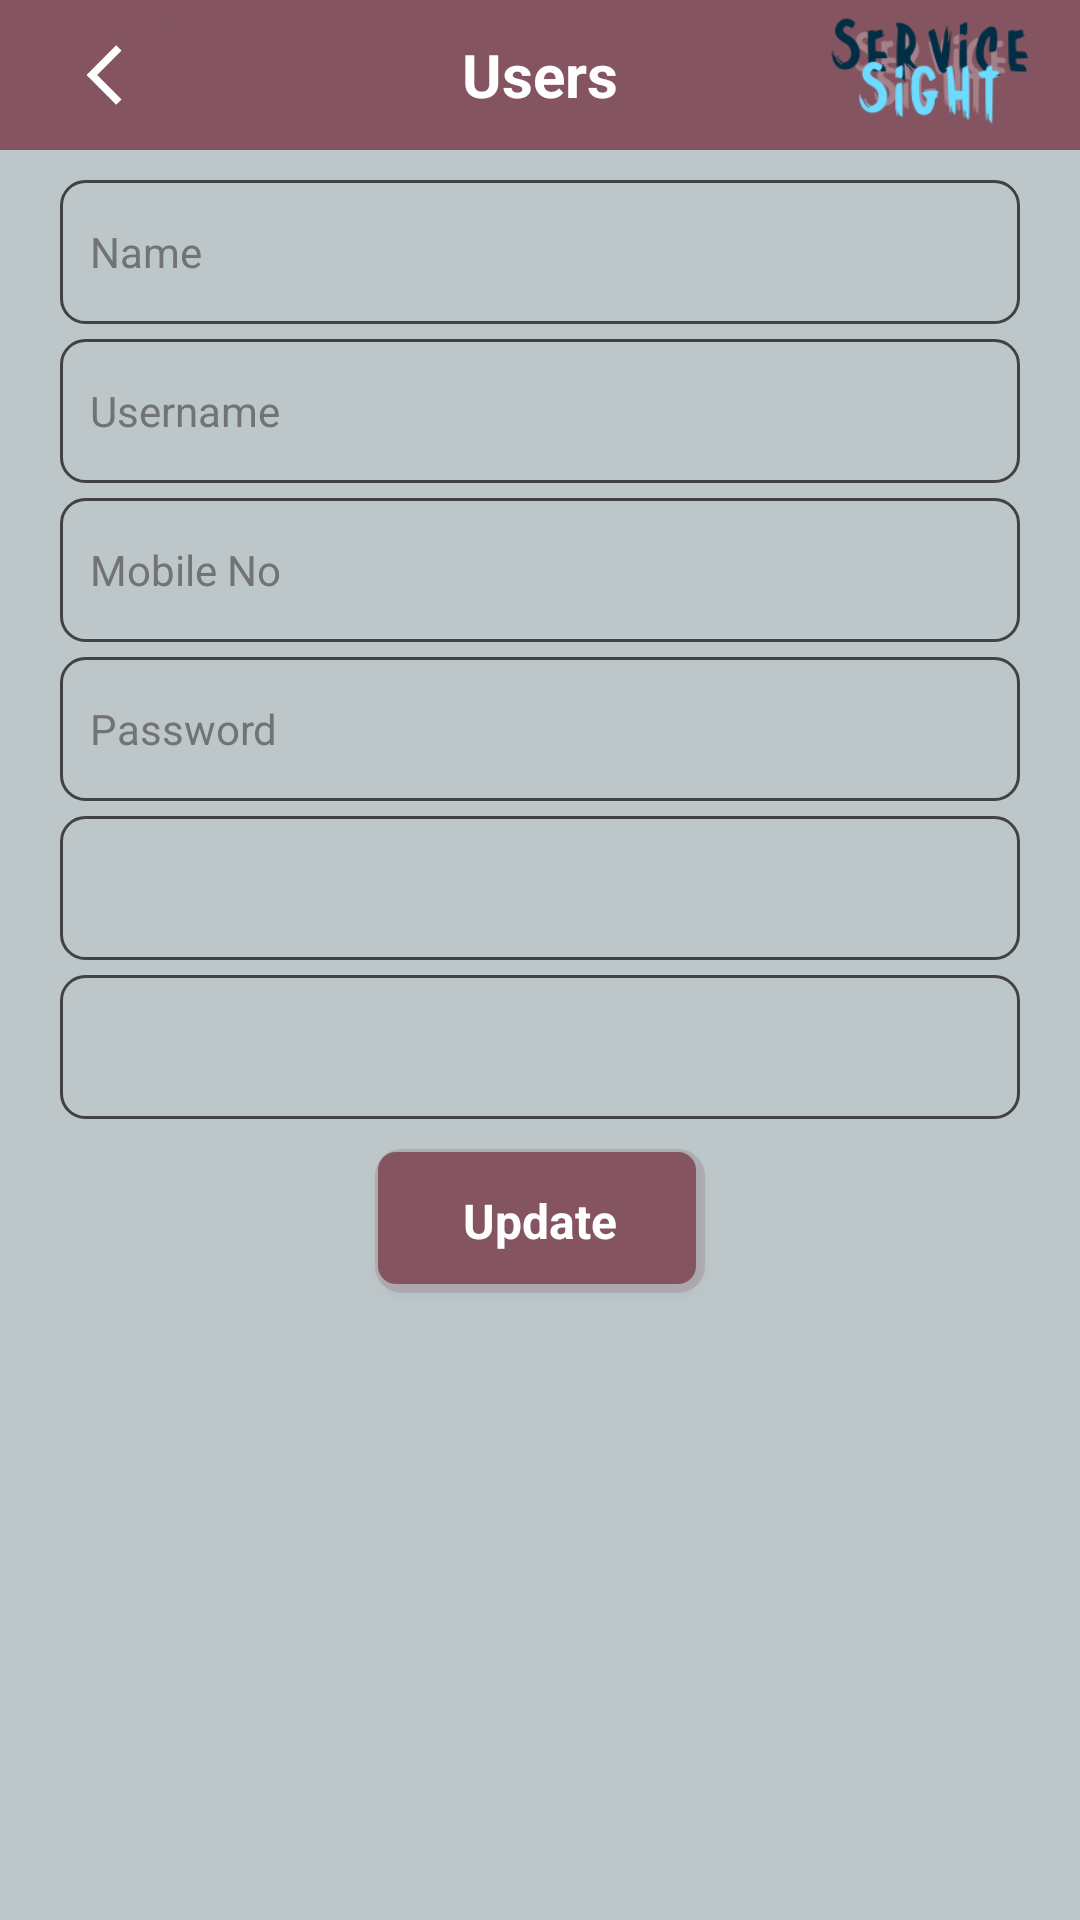

Icon click points for this 1080px×1920px phone screenshot, format (x=x, y=y):
Back Icon: (x=104, y=75)
